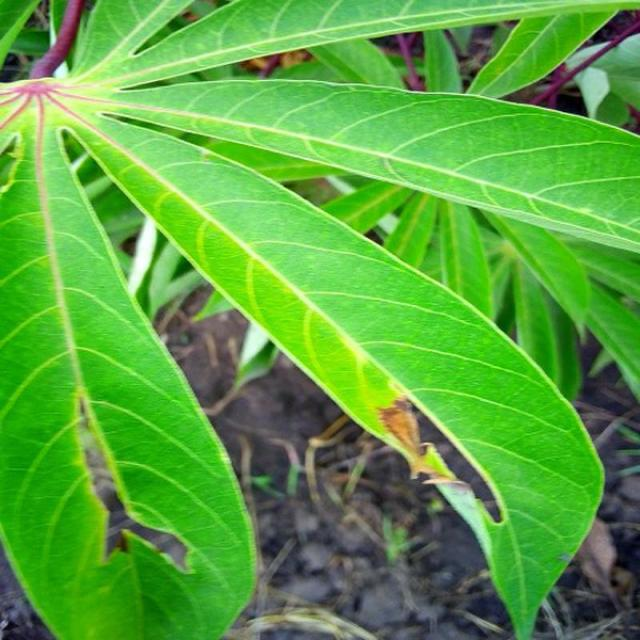cassava leaf: (2, 1, 638, 638), (1, 94, 258, 638)
